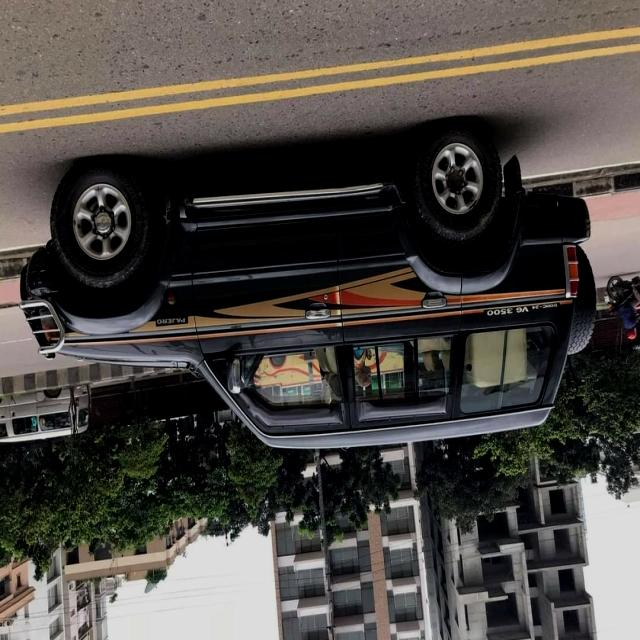black: (25, 119, 582, 443)
